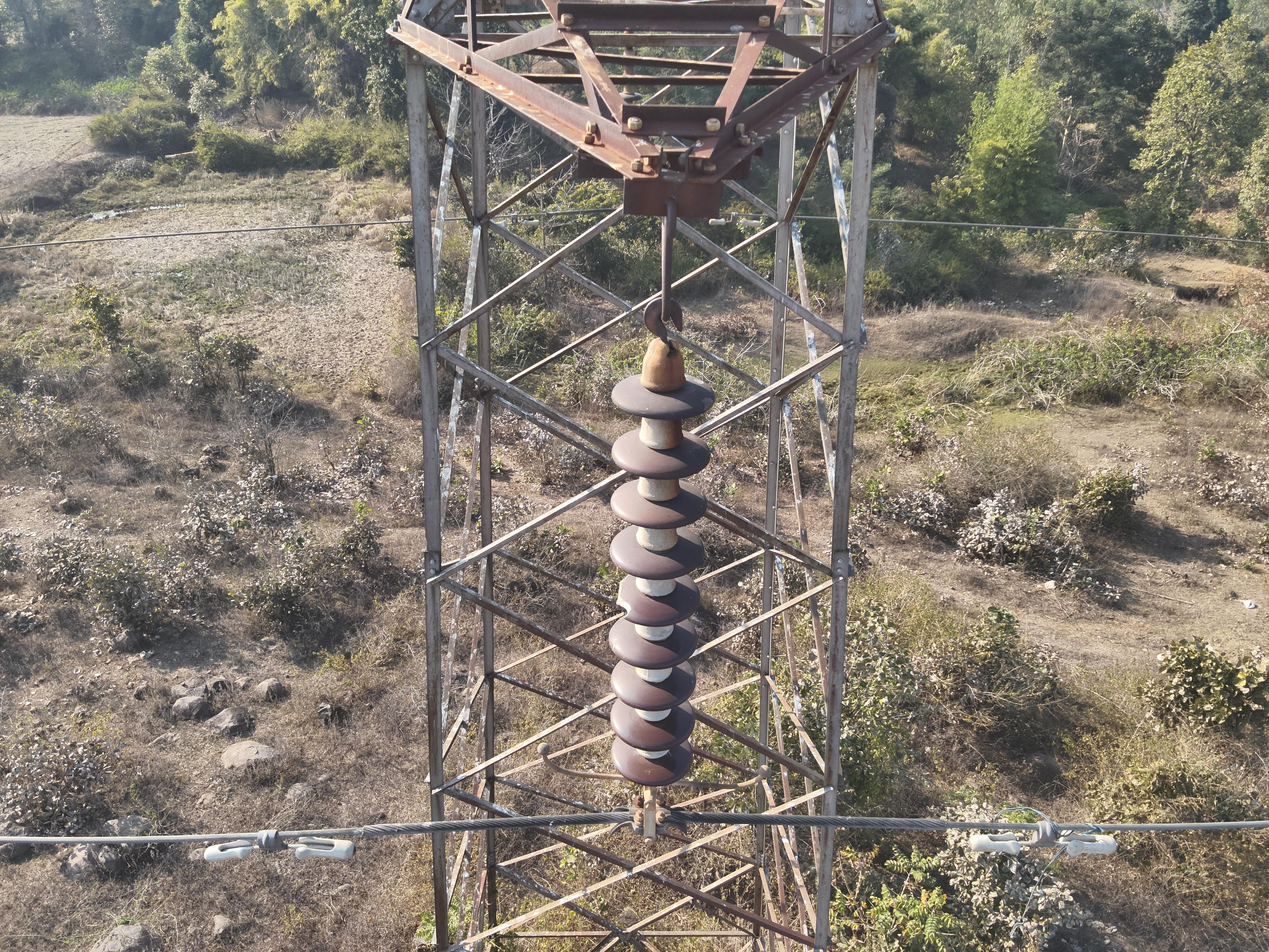broken_insulator: (609, 577, 705, 632)
